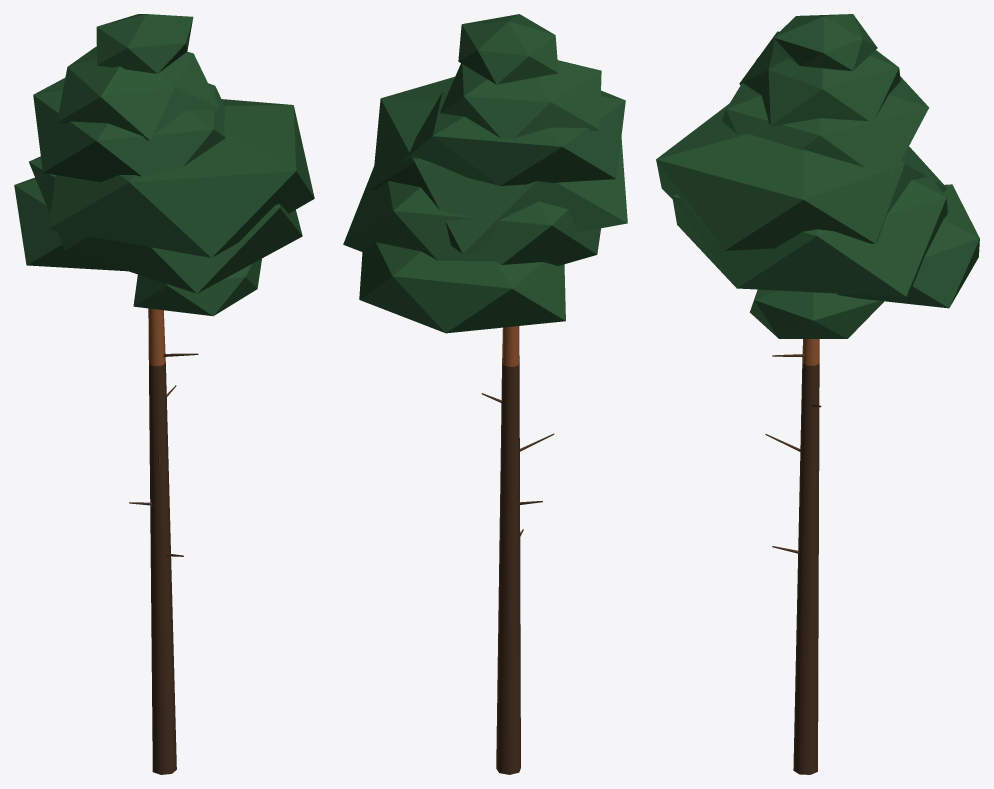
File: tree-pine-1.glb
The picture shows the model from 3 angles, left to right: view 1: azimuth 30°, elevation 25°; view 2: azimuth 150°, elevation 25°; view 3: azimuth 270°, elevation 25°; orthographic projection.
Parts seen in each view (by area): view 1: 02_paint0, 00_#4a3424, 01_#9a5a34; view 2: 02_paint0, 00_#4a3424, 01_#9a5a34; view 3: 02_paint0, 00_#4a3424.
Part boxes in pixels (x1=…): 02_paint0: x1=14, y1=14, x2=314, y2=316; 00_#4a3424: x1=129, y1=353, x2=198, y2=774; 01_#9a5a34: x1=148, y1=308, x2=165, y2=366; 02_paint0: x1=343, y1=14, x2=627, y2=333; 00_#4a3424: x1=481, y1=362, x2=554, y2=774; 01_#9a5a34: x1=502, y1=326, x2=519, y2=366; 02_paint0: x1=656, y1=14, x2=979, y2=338; 00_#4a3424: x1=765, y1=354, x2=821, y2=774.
Size of the model in its own units: 7.62 by 22.29 by 8.73.
